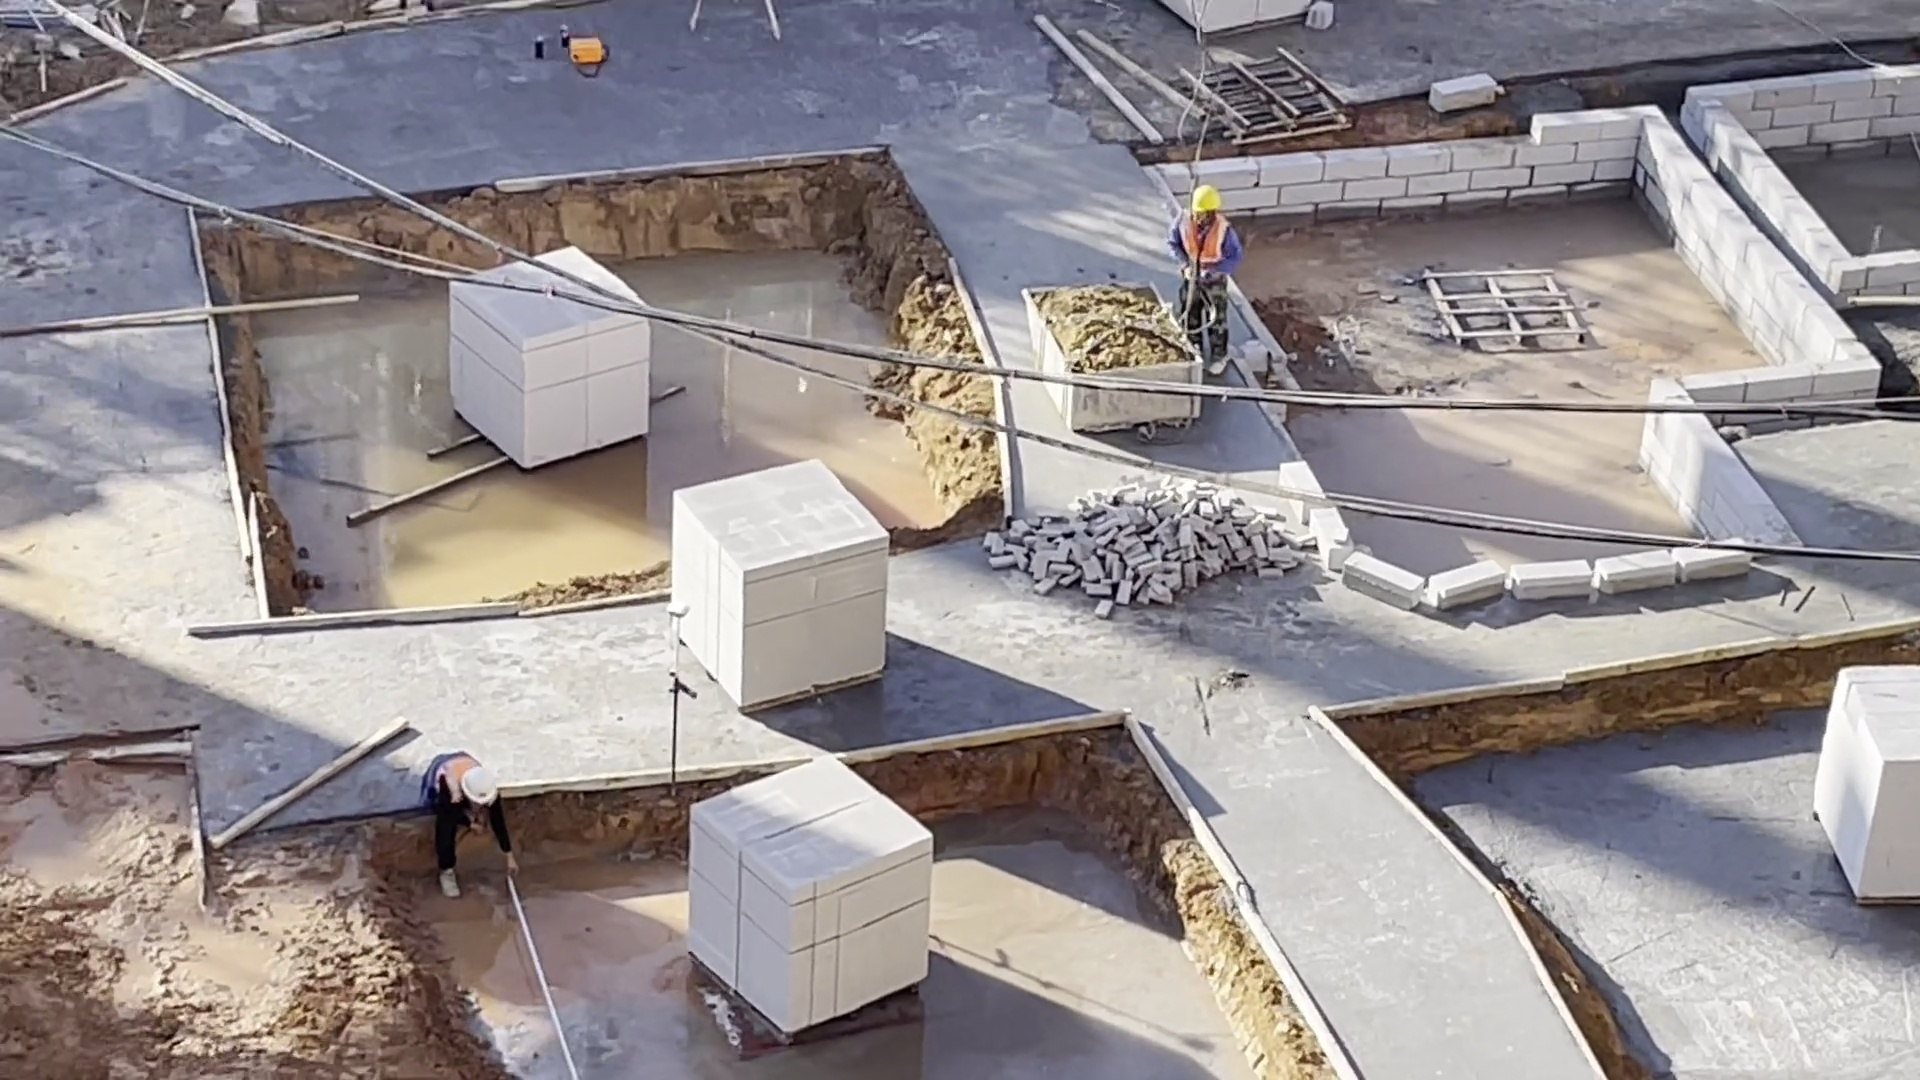brick: (675, 737, 932, 1034), (661, 452, 895, 716), (445, 317, 657, 483), (1810, 657, 1920, 903)
helmet: (458, 763, 500, 803), (1185, 187, 1224, 215)
hopper: (1018, 274, 1171, 374)
person: (416, 750, 522, 903), (1167, 184, 1243, 378)
vest: (1177, 216, 1232, 285)
